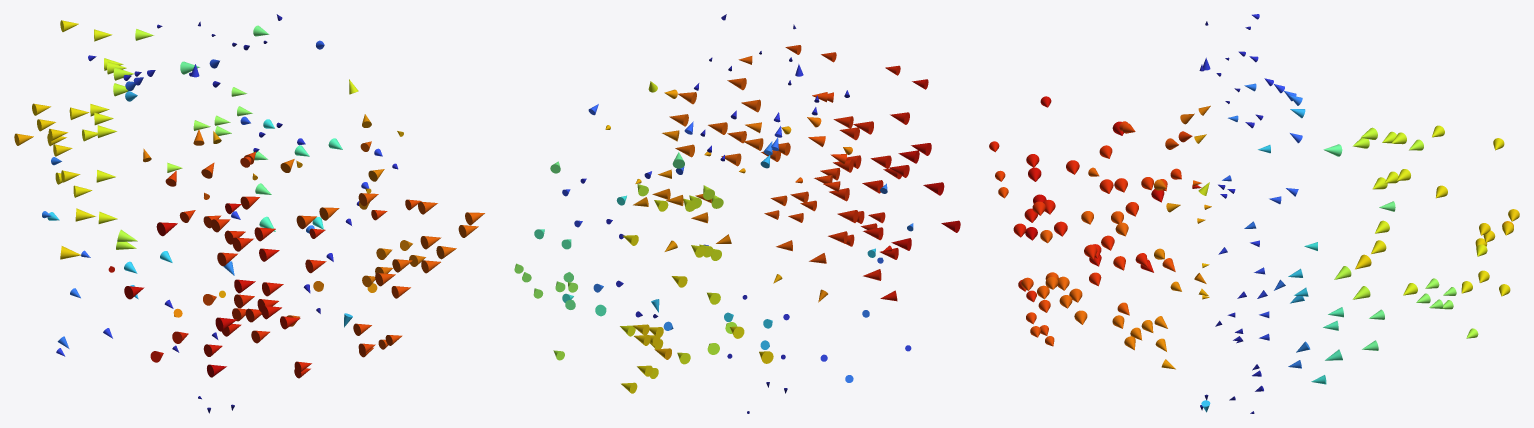
The model's file is LineasCorrienteH2-O2_mh2-1.38_V-0.7.glb.
3 renders of one model, left to right at view 1: azimuth 30°, elevation 25°; view 2: azimuth 150°, elevation 25°; view 3: azimuth 270°, elevation 25°, orthographic. The views are drawn at different scales.
Bounding box in the file's own units: 0.000919 × 0.00099 × 0.00125.
2 materials, 2 textured.
